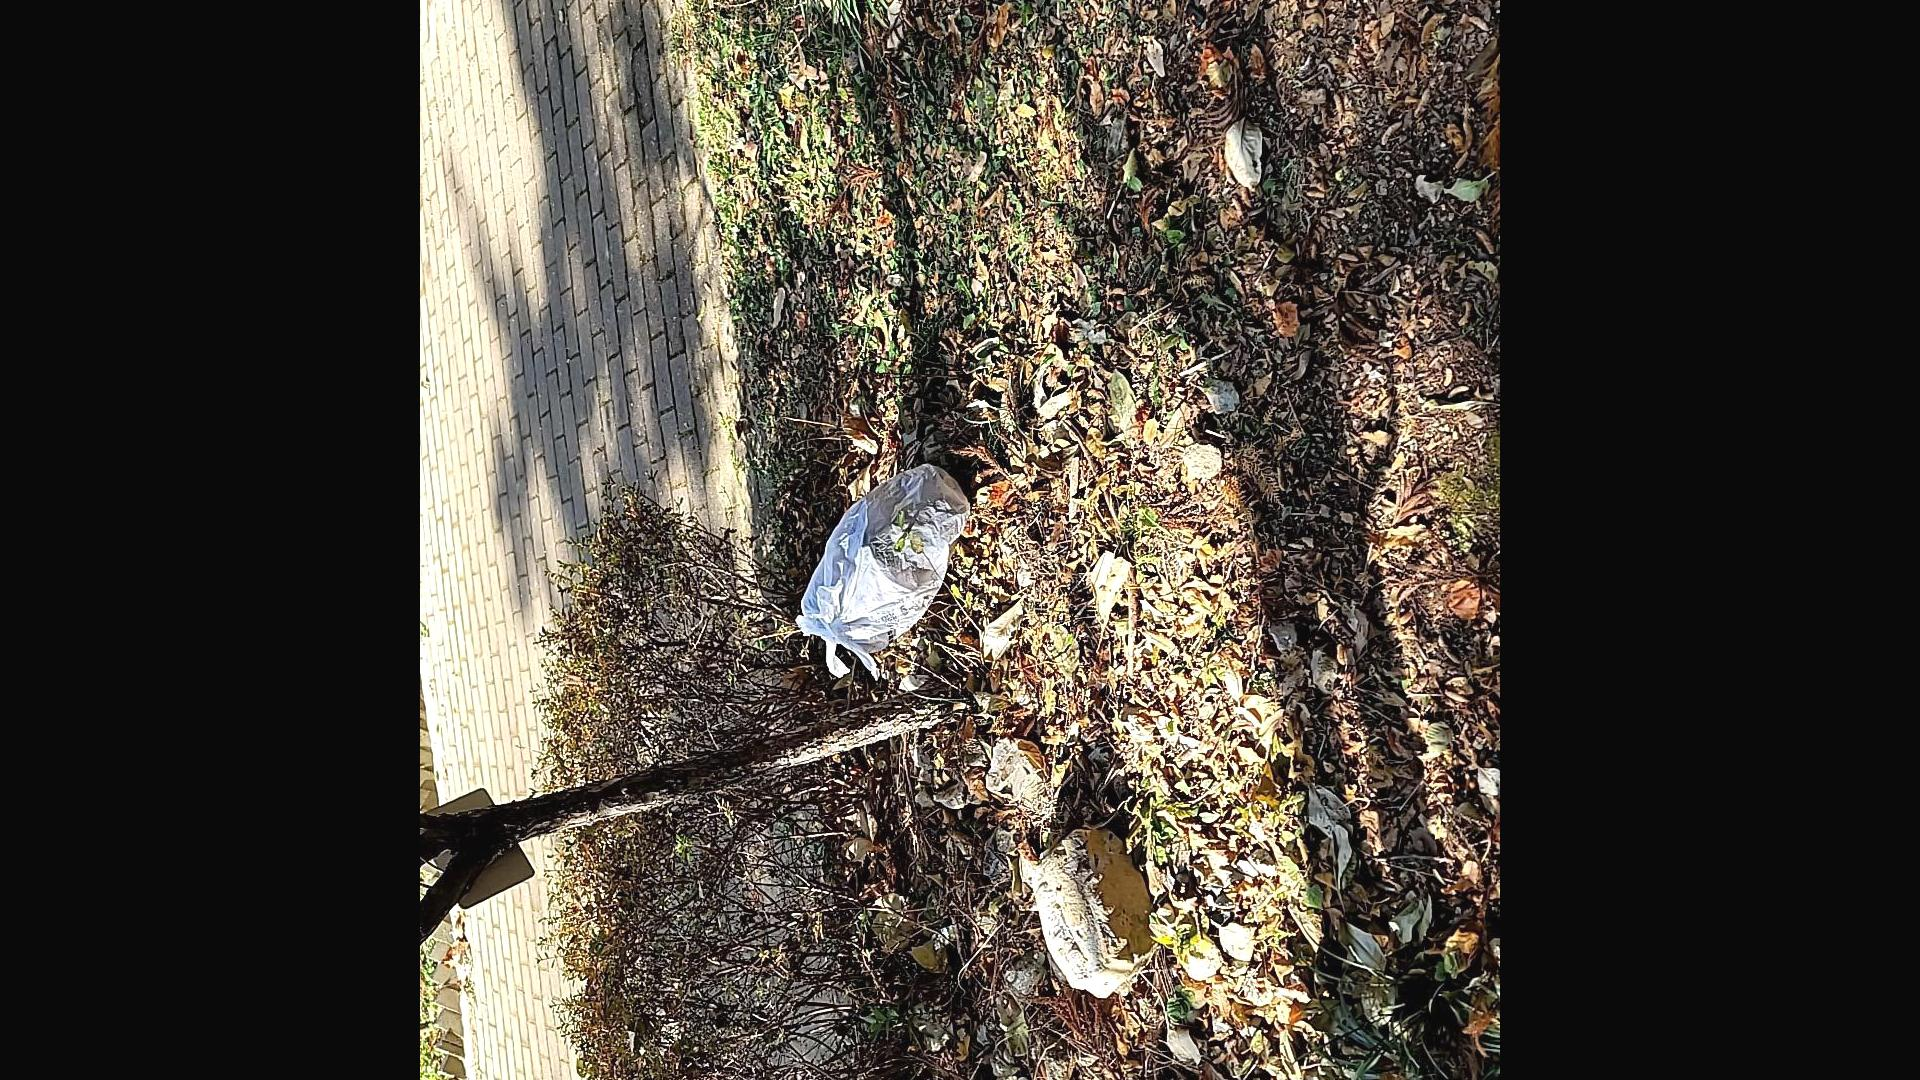white_bag: (782, 452, 984, 694)
